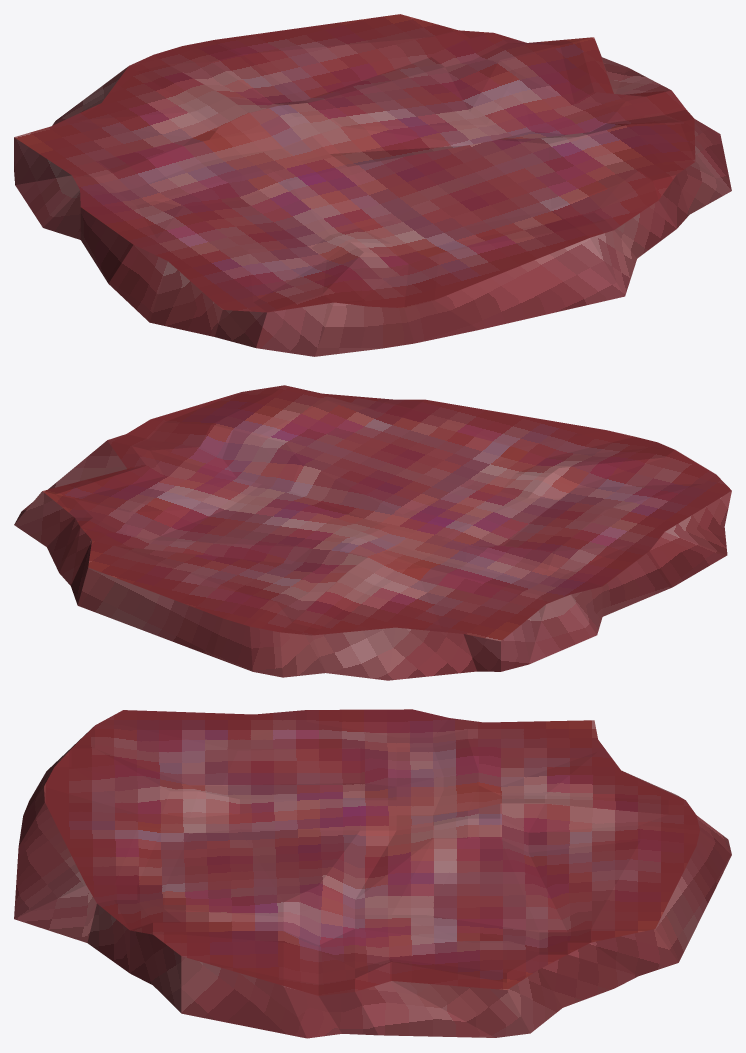
File: flesh.glb
The picture shows the model from 3 angles, top to bottom: view 1: azimuth 30°, elevation 25°; view 2: azimuth 150°, elevation 25°; view 3: azimuth 270°, elevation 25°; orthographic projection. The views are drawn at different scales.
Parts seen in each view (by area): view 1: Cylinder; view 2: Cylinder; view 3: Cylinder.
Boxes of the visible parts, x1=… form: Cylinder: x1=14, y1=14, x2=731, y2=356; Cylinder: x1=14, y1=385, x2=731, y2=680; Cylinder: x1=14, y1=709, x2=731, y2=1038.
Bounding box in the file's own units: 3.95 × 0.2694 × 3.84.
Materials: 1 (1 with a texture image).
